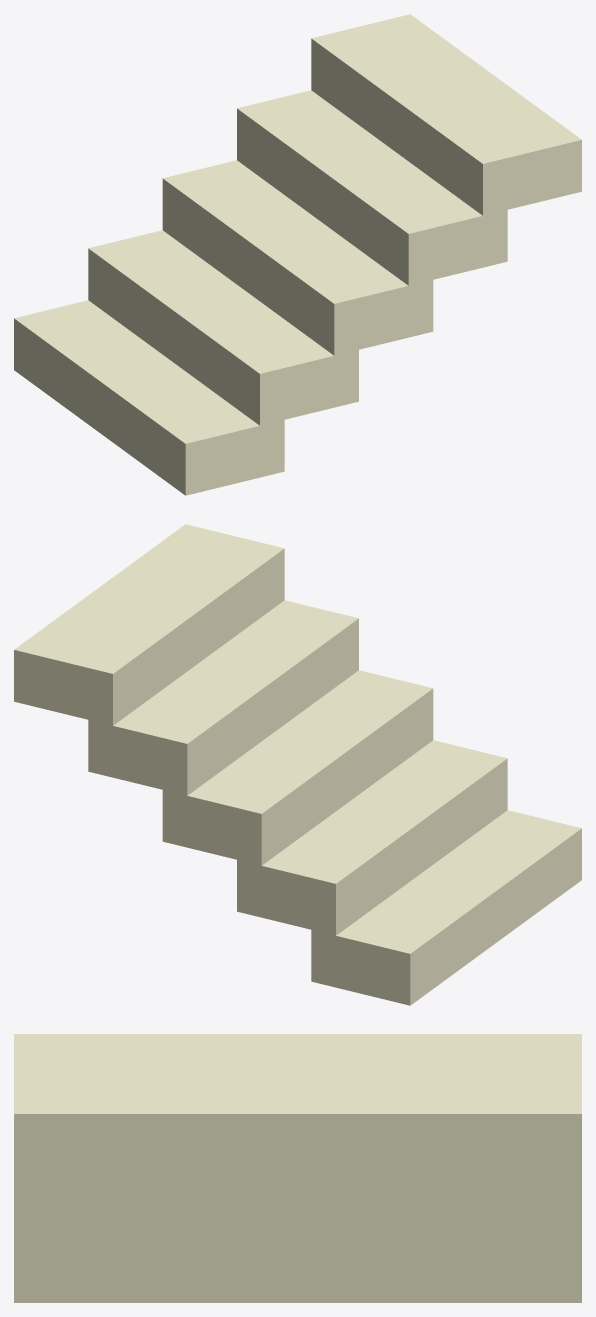
The model's file is Stairs_Block.glb.
3 views of the same model, one above another, from view 1: azimuth 30°, elevation 25°; view 2: azimuth 150°, elevation 25°; view 3: azimuth 270°, elevation 25° (orthographic). The views are drawn at different scales.
Parts seen in each view (by area): view 1: Stairs Block; view 2: Stairs Block; view 3: Stairs Block.
Boxes of the visible parts, left/top/right/bottom form: Stairs Block: left=14, top=14, right=581, bottom=495; Stairs Block: left=14, top=524, right=581, bottom=1005; Stairs Block: left=14, top=1034, right=581, bottom=1302.
Bounding box in the file's own units: 1.6 × 1 × 1.2.
